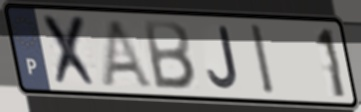1: (314, 26, 349, 99)
A: (99, 17, 157, 91)
B: (141, 18, 198, 93)
I: (247, 22, 278, 97)
J: (205, 24, 241, 92)
X: (39, 12, 103, 90)
